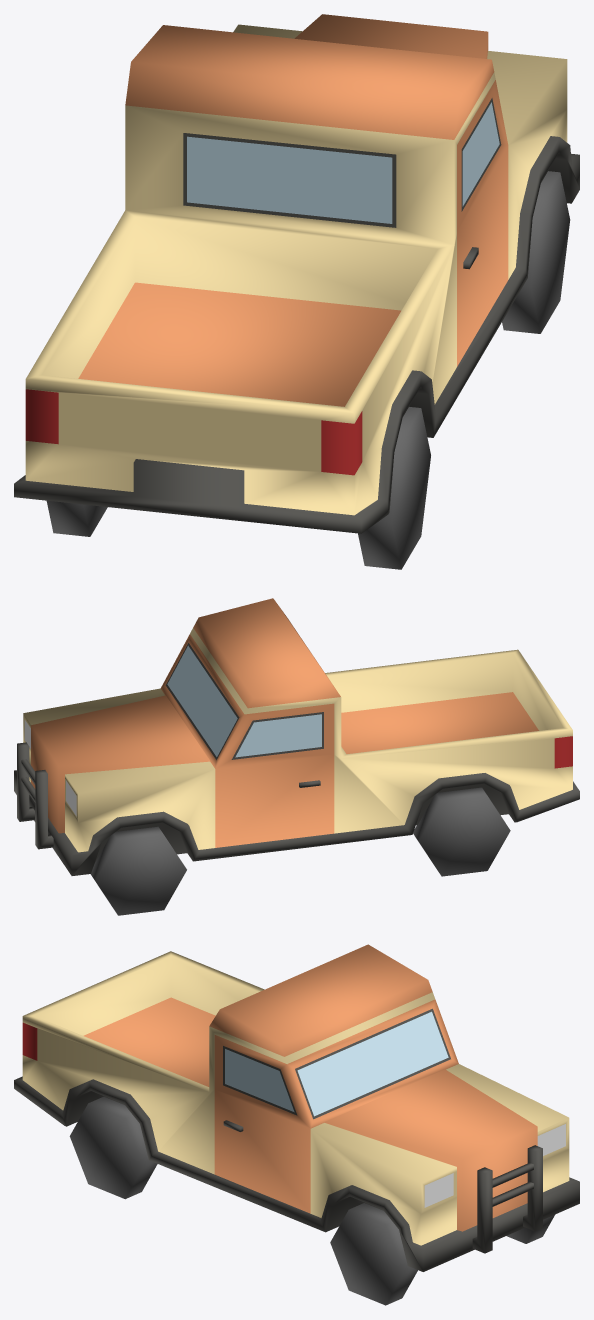
Rendered from truckonly.glb.
3 views of the same model, one above another, from view 1: azimuth 30°, elevation 25°; view 2: azimuth 150°, elevation 25°; view 3: azimuth 270°, elevation 25° (orthographic). The views are drawn at different scales.
Parts seen in each view (by area): view 1: Pickup_1.003; view 2: Pickup_1.003; view 3: Pickup_1.003.
Boxes of the visible parts, x1,y1,x2,y2 form: Pickup_1.003: [14, 14, 579, 569]; Pickup_1.003: [14, 598, 579, 915]; Pickup_1.003: [14, 944, 579, 1305].
Bounding box in the file's own units: 55.21 × 24.58 × 56.05.
Materials: 1 (1 with a texture image).
